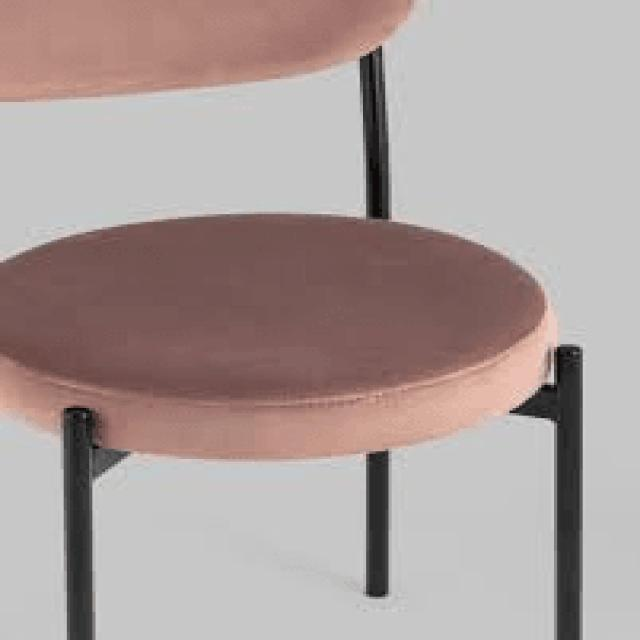chair: (0, 0, 586, 640), (41, 0, 570, 421)
